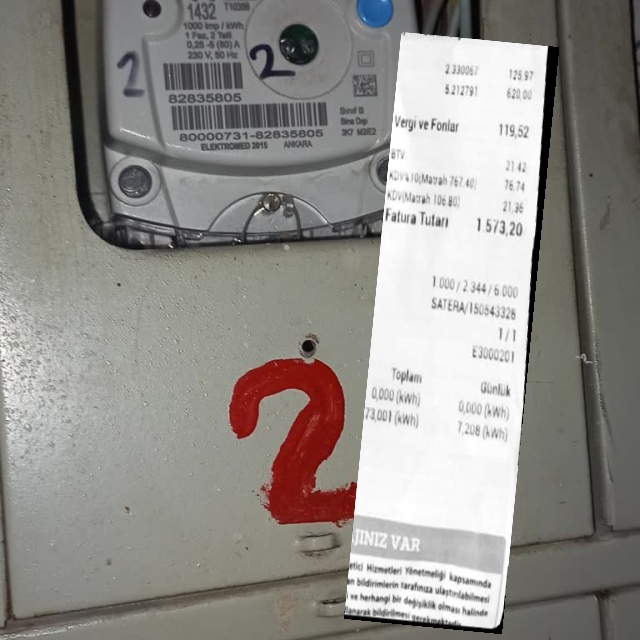electricity-bill: (344, 31, 559, 633)
